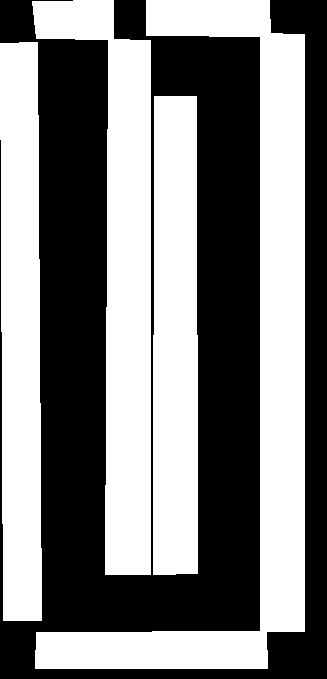parkingspot: (260, 33, 304, 631), (105, 39, 150, 574), (0, 42, 41, 620), (153, 96, 197, 574), (35, 631, 267, 668), (146, 0, 270, 36), (32, 0, 113, 39)
